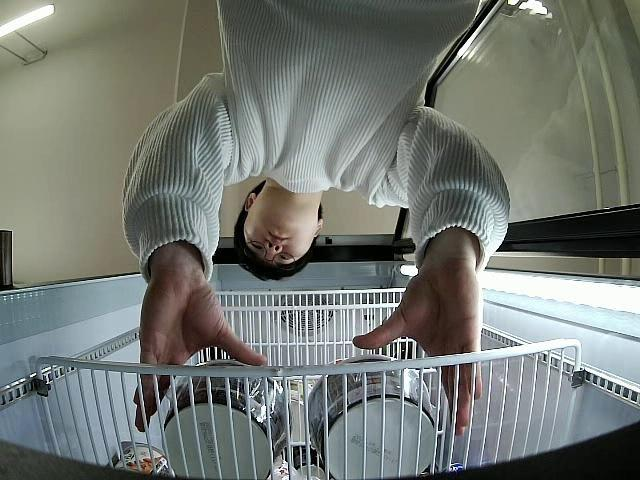07_buldak_L: (307, 355, 438, 480), (163, 361, 292, 480)
